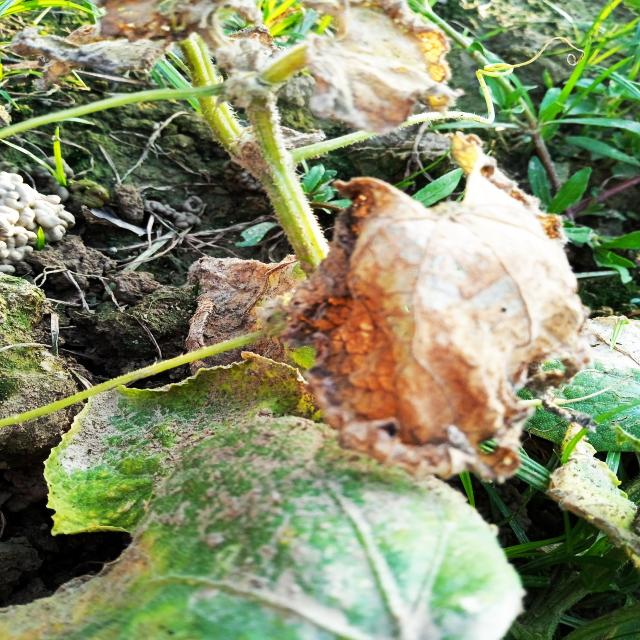Bacterial-Wilt: (263, 149, 595, 482)
